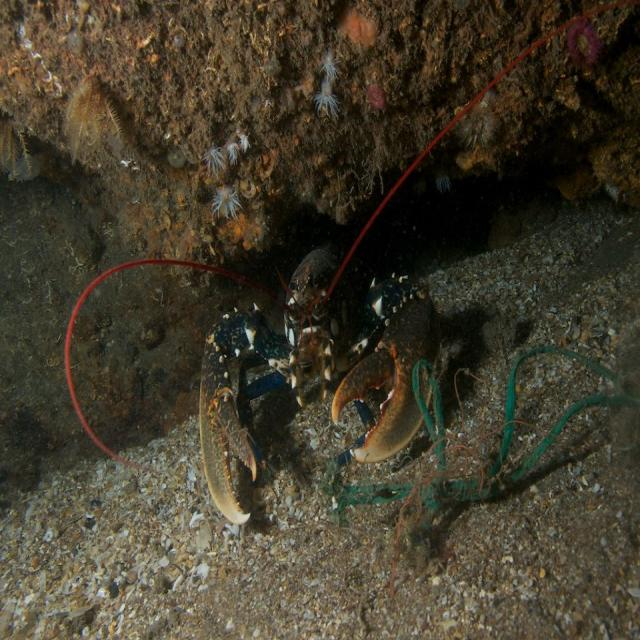lobsters: (94, 242, 469, 541)
